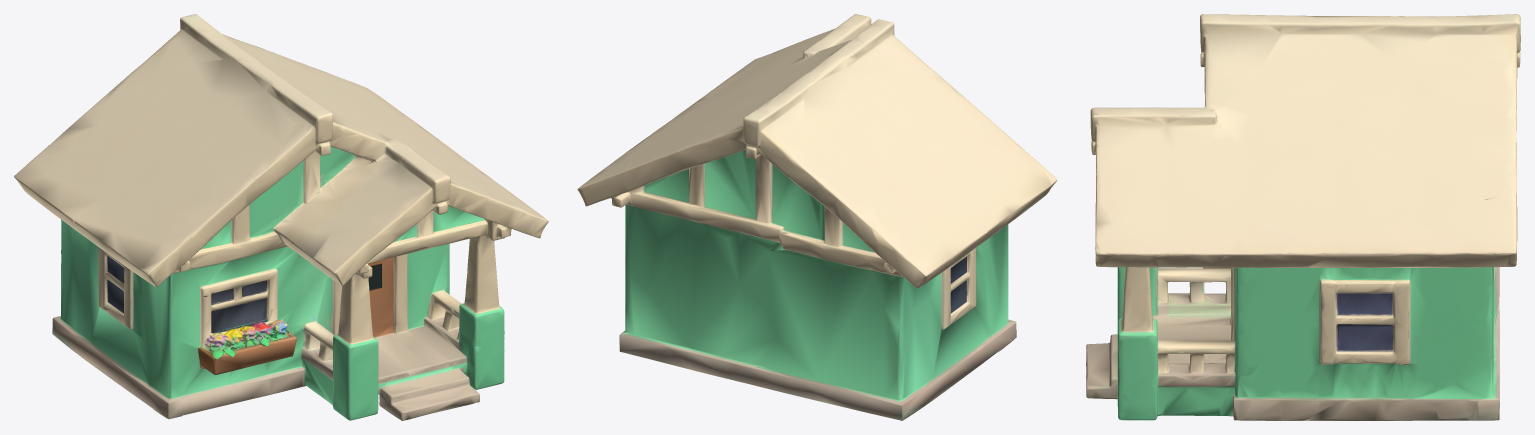
Rendered from 40bdfd42-f7a9-4032-9172-663990078e9e.glb.
3 renders of one model, left to right at view 1: azimuth 30°, elevation 25°; view 2: azimuth 150°, elevation 25°; view 3: azimuth 270°, elevation 25°, orthographic. The views are drawn at different scales.
Parts seen in each view (by area): view 1: Mesh_0; view 2: Mesh_0; view 3: Mesh_0.
Boxes of the visible parts, x1=… form: Mesh_0: x1=14, y1=14, x2=548, y2=420; Mesh_0: x1=577, y1=14, x2=1057, y2=420; Mesh_0: x1=1086, y1=14, x2=1520, y2=420.
Bounding box in the file's own units: 1.9 × 1.43 × 1.73.
1 material, 1 textured.
